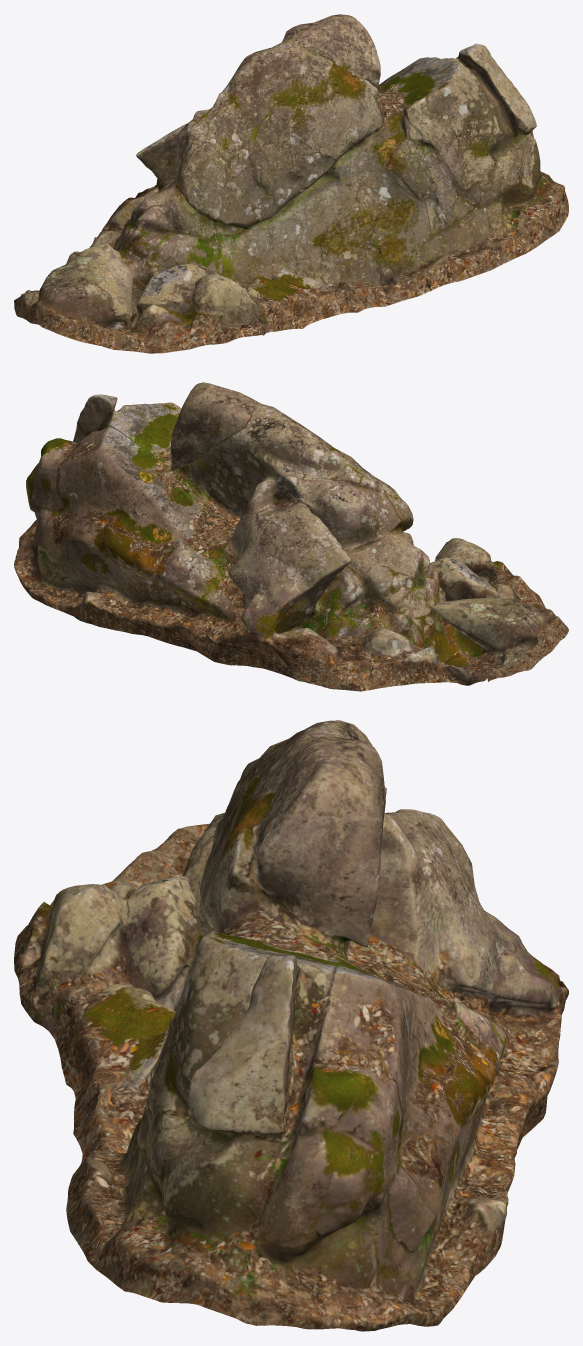
Rendered from rock1.opt.glb.
3 renders of one model, top to bottom at view 1: azimuth 30°, elevation 25°; view 2: azimuth 150°, elevation 25°; view 3: azimuth 270°, elevation 25°, orthographic. The views are drawn at different scales.
Visible parts, largest first — view 1: Aset_rock_sandstone_L_plFhY_LOD0; view 2: Aset_rock_sandstone_L_plFhY_LOD0; view 3: Aset_rock_sandstone_L_plFhY_LOD0.
Part boxes in pixels (bbox=[...]): Aset_rock_sandstone_L_plFhY_LOD0: bbox=[14, 14, 568, 353]; Aset_rock_sandstone_L_plFhY_LOD0: bbox=[14, 382, 568, 691]; Aset_rock_sandstone_L_plFhY_LOD0: bbox=[14, 720, 568, 1331].
Bounding box in the file's own units: 3.28 × 1.41 × 1.63.
1 material, 1 textured.
